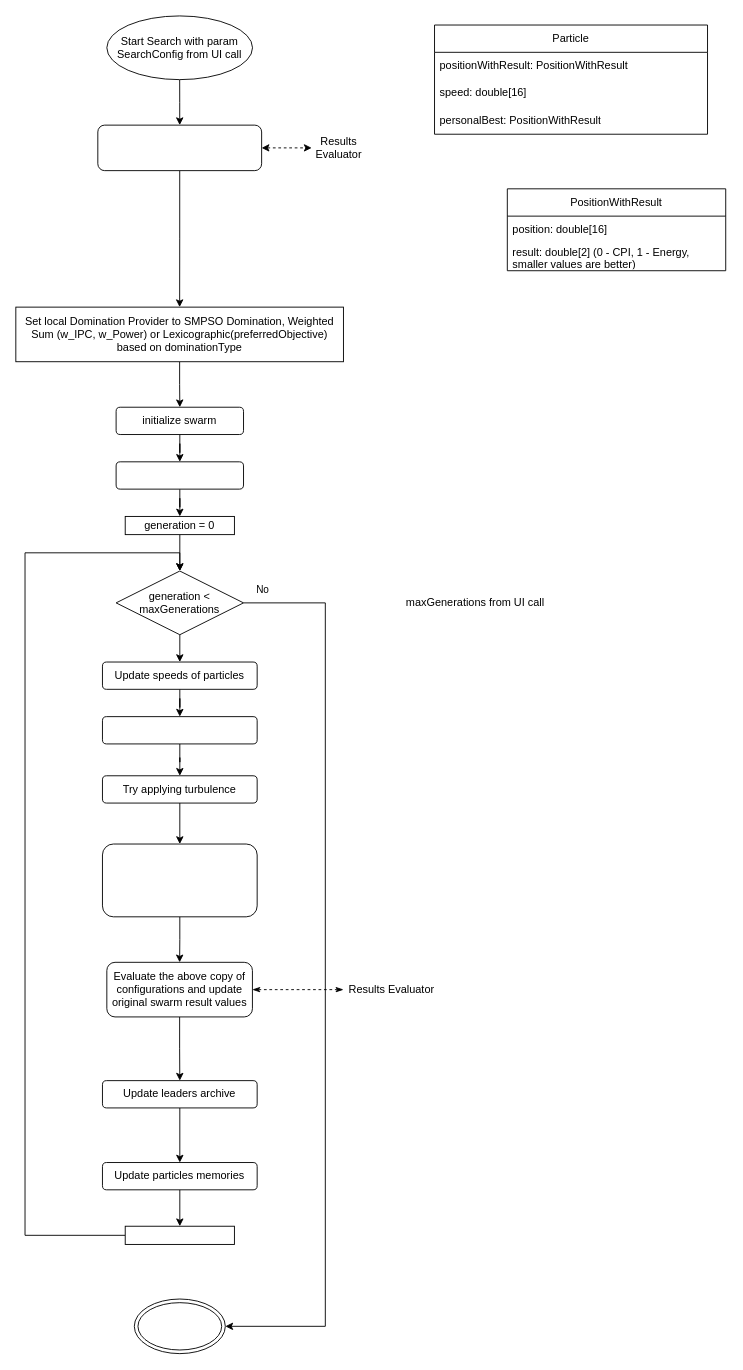
This 743x1370 diagram has some shape labels left out. Each missing label, with the centre of its shape:
generation++: pixel 179 1234
get copy of configurations by Mapping From Real Vector To Configuration: pixel 179 880
Init Result Evaluator with given env: pixel 179 147
Initialize leaders archive: pixel 179 475
Return Leaders Archive: pixel 179 1326
Update positions of particles: pixel 179 730
